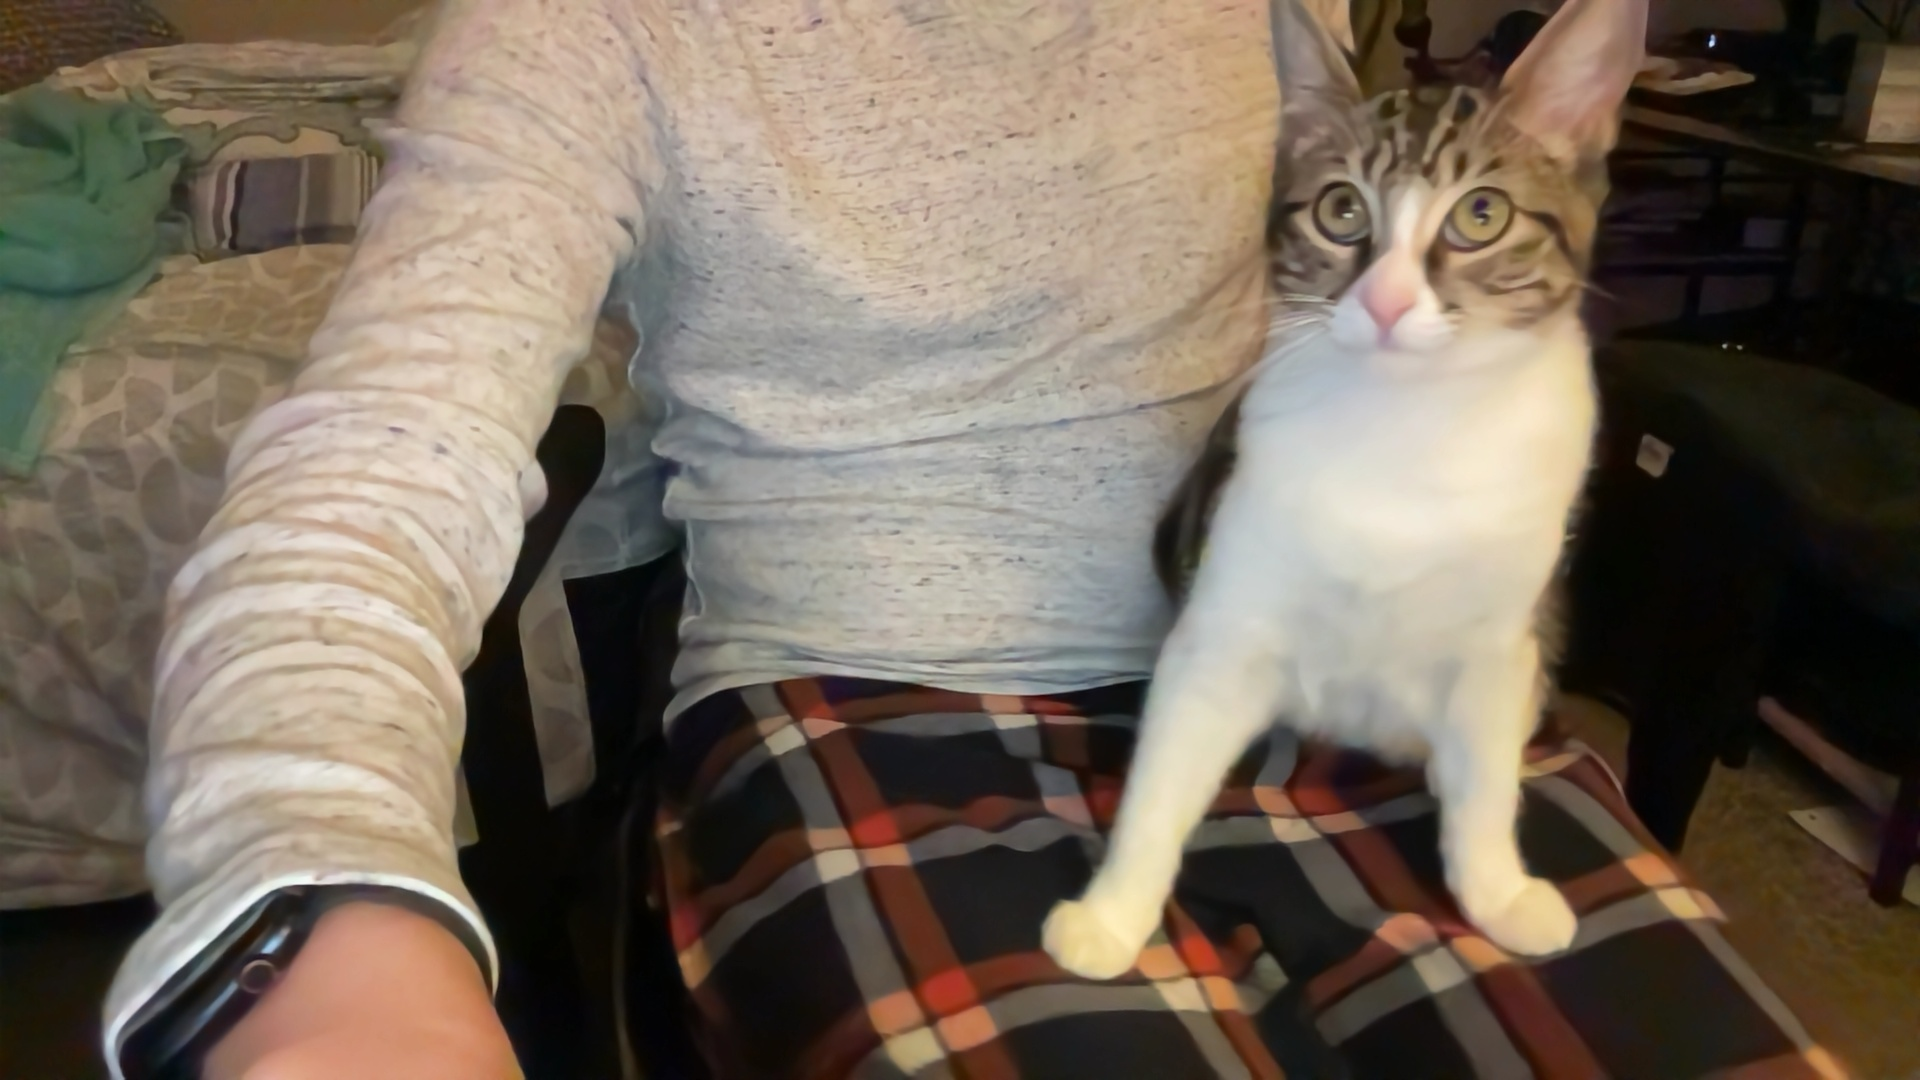cat: (1044, 15, 1673, 985)
